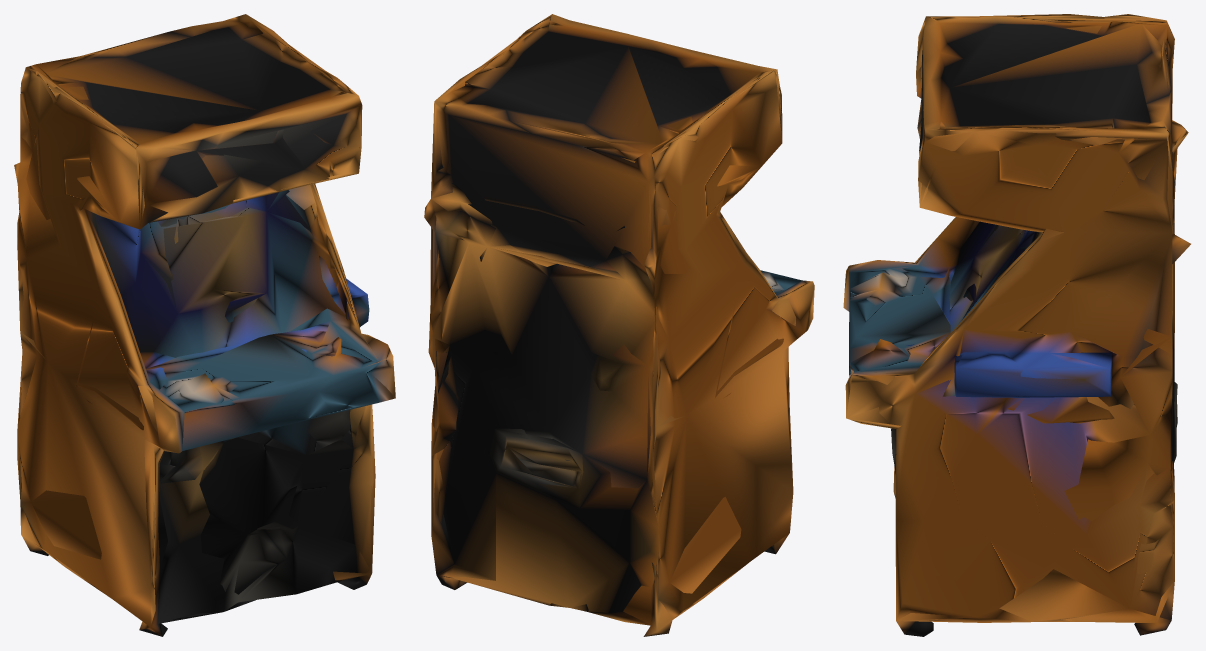
Rendered from gen3d-arcade-machine-lod0.glb.
The picture shows the model from 3 angles, left to right: view 1: azimuth 30°, elevation 25°; view 2: azimuth 150°, elevation 25°; view 3: azimuth 270°, elevation 25°; orthographic projection. The views are drawn at different scales.
Parts seen in each view (by area): view 1: part_0; view 2: part_0; view 3: part_0.
Boxes of the visible parts, box(x1,y1,x2,y2) form: part_0: box(14, 14, 395, 636); part_0: box(424, 14, 814, 636); part_0: box(843, 14, 1190, 636).
Bounding box in the file's own units: 0.5366 × 0.9993 × 0.6191.
